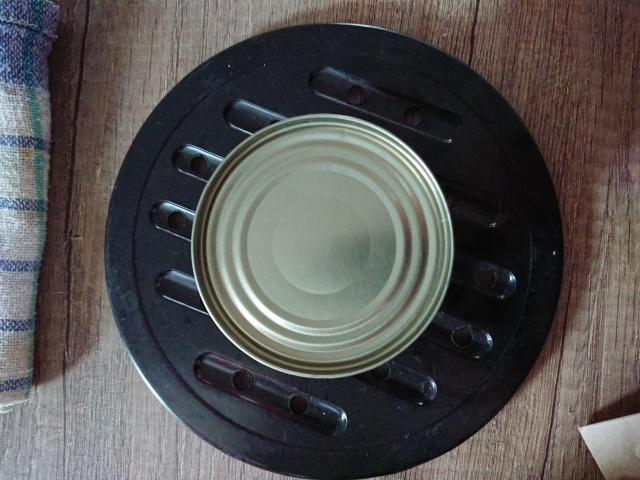Podravka Luncheon Meat 150g: (185, 109, 459, 384)
